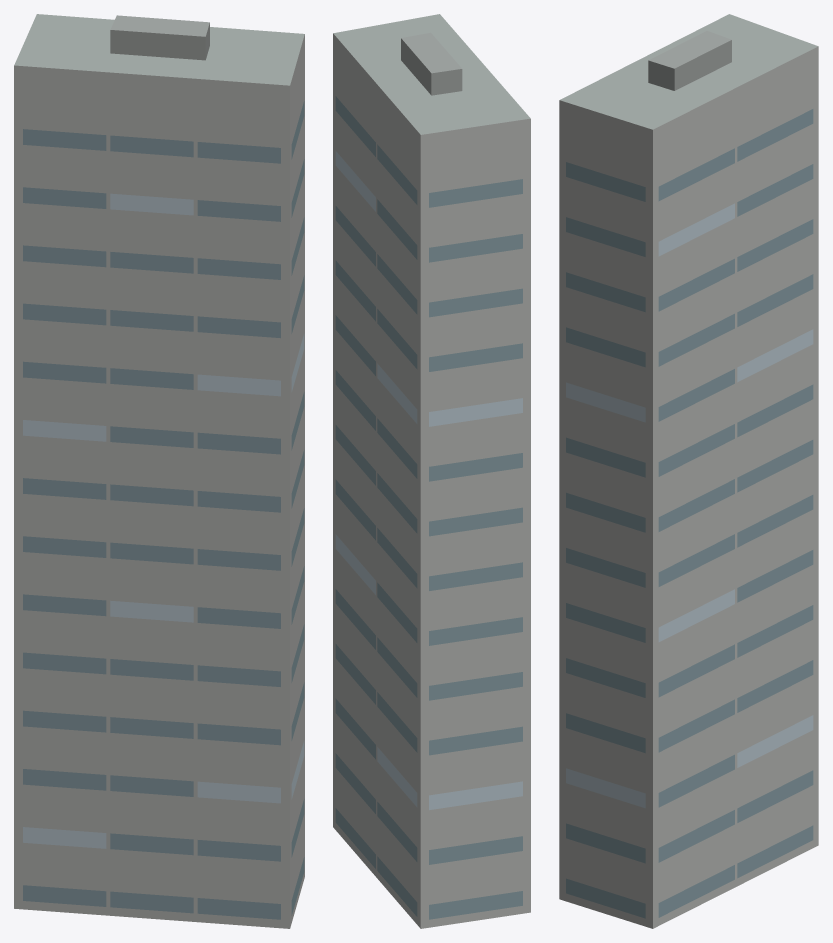
Rendered from fallback-jamsil-ricenz-222.glb.
3 renders of one model, left to right at view 1: azimuth 30°, elevation 25°; view 2: azimuth 150°, elevation 25°; view 3: azimuth 270°, elevation 25°, orthographic. The views are drawn at different scales.
Parts seen in each view (by area): view 1: fallback-jamsil-ricenz-222; view 2: fallback-jamsil-ricenz-222; view 3: fallback-jamsil-ricenz-222.
Part boxes in pixels (x1=…): fallback-jamsil-ricenz-222: x1=14, y1=14, x2=304, y2=928; fallback-jamsil-ricenz-222: x1=333, y1=14, x2=530, y2=928; fallback-jamsil-ricenz-222: x1=559, y1=14, x2=818, y2=928.
Size of the model in its own units: 26.6 by 88 by 25.16.
